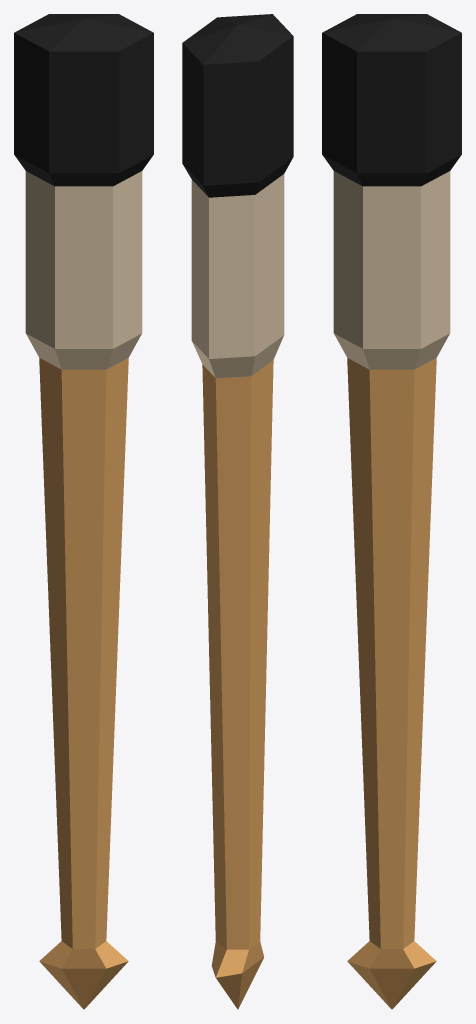
Rendered from Torch 02.fbx.
3 renders of one model, left to right at view 1: azimuth 90°, elevation 25°; view 2: azimuth 150°, elevation 25°; view 3: azimuth 270°, elevation 25°, orthographic.
Visible parts, largest first — view 1: Torch 02; view 2: Torch 02; view 3: Torch 02.
Boxes of the visible parts, x1=… form: Torch 02: x1=14, y1=14, x2=153, y2=1009; Torch 02: x1=182, y1=14, x2=293, y2=1009; Torch 02: x1=322, y1=14, x2=461, y2=1009.
Size of the model in its own units: 11.29 by 139 by 17.78.
